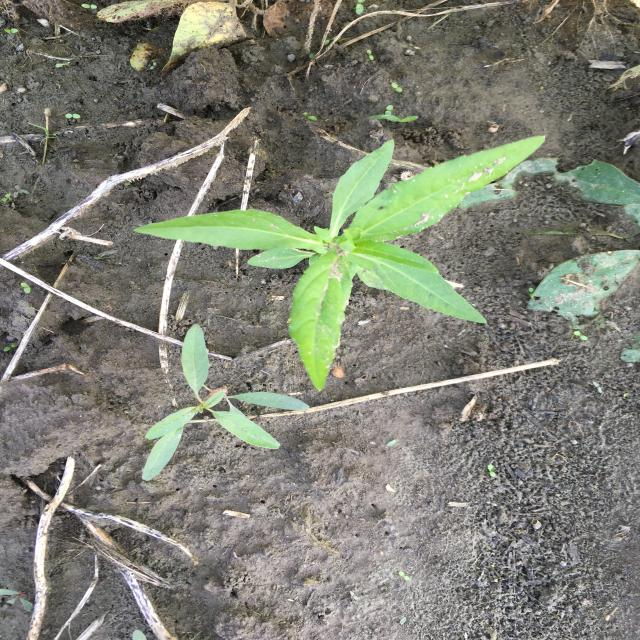Eclipta: (131, 133, 548, 394)
Waterhemp: (140, 323, 312, 483)
